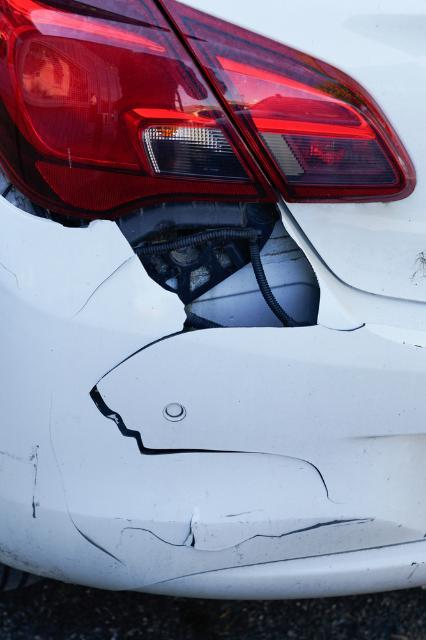crack: (88, 310, 347, 506), (49, 392, 129, 568), (116, 511, 377, 552), (70, 253, 137, 320), (0, 260, 18, 290), (320, 323, 367, 332)
no part: (115, 198, 321, 329)
